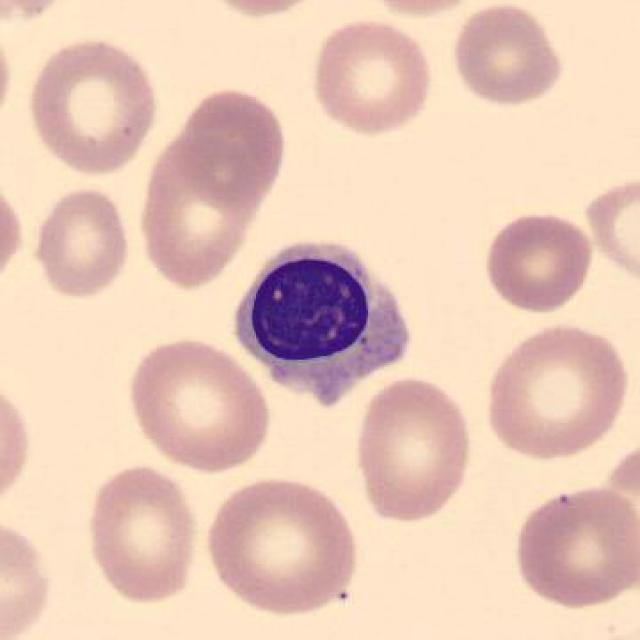RBC: (201, 472, 363, 622), (480, 321, 635, 464), (122, 333, 276, 476), (23, 34, 160, 178), (350, 376, 475, 526), (505, 482, 640, 614), (82, 462, 201, 608), (308, 16, 436, 139), (446, 2, 567, 111), (480, 206, 596, 318), (28, 184, 134, 304), (0, 516, 57, 640), (350, 0, 498, 21), (190, 0, 331, 21)
